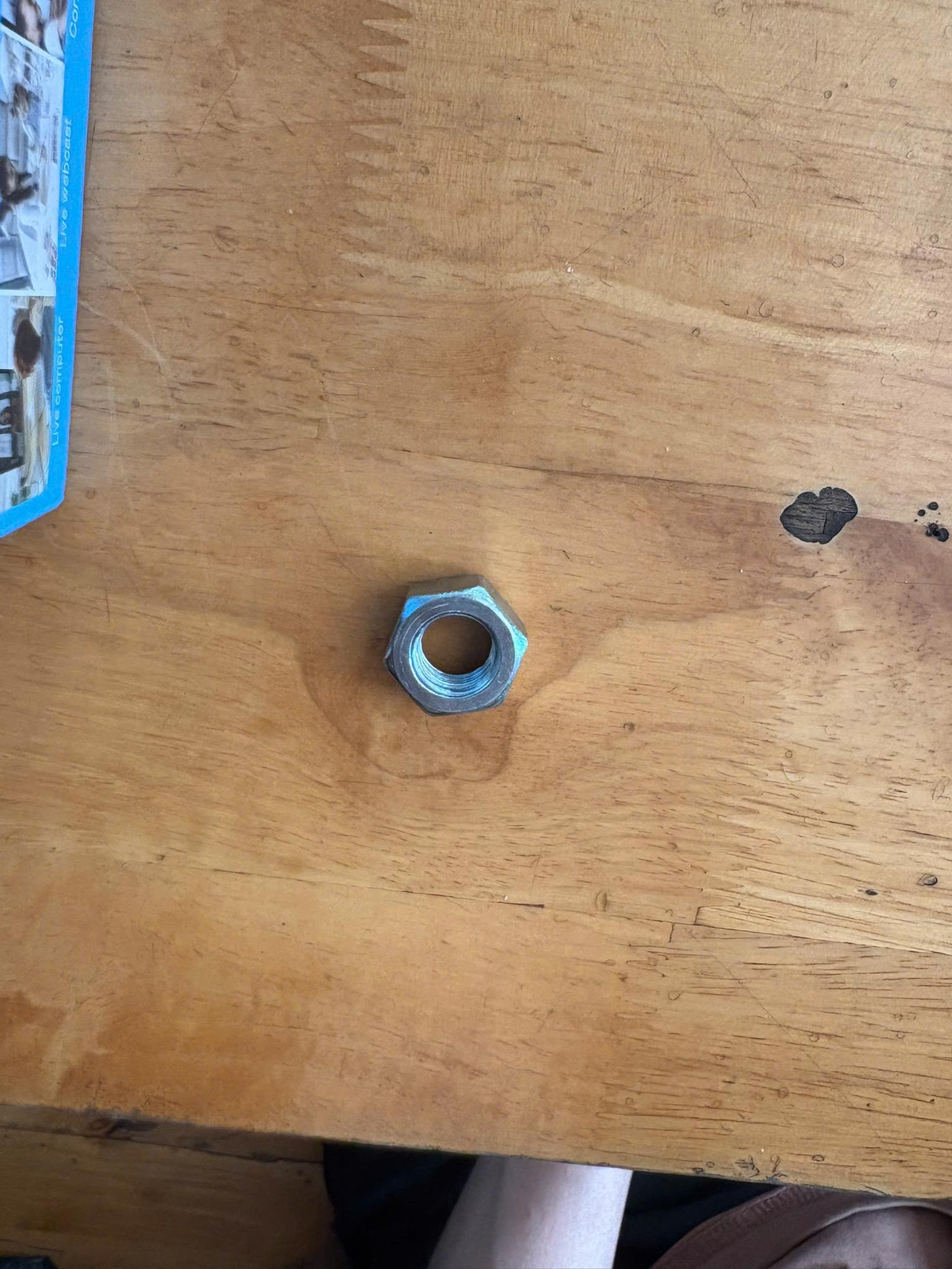nut: (389, 568, 537, 732)
